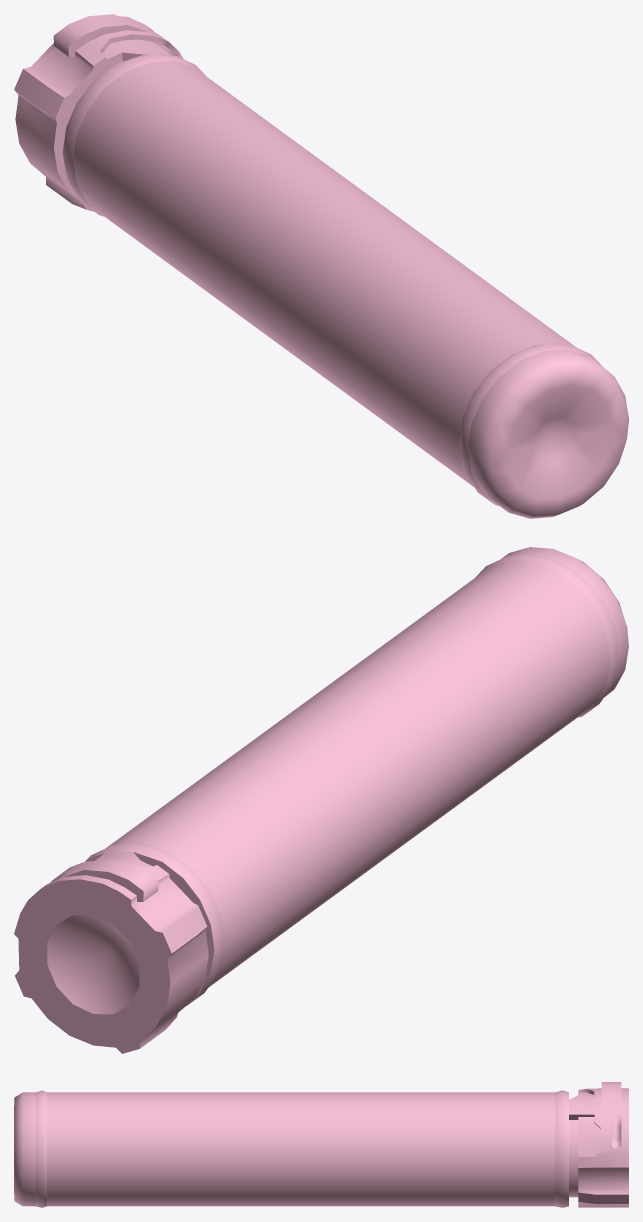
The model's file is surfire.fbx.
3 renders of one model, top to bottom at view 1: azimuth 30°, elevation 25°; view 2: azimuth 150°, elevation 25°; view 3: azimuth 270°, elevation 25°, orthographic. The views are drawn at different scales.
Visible parts, largest first — view 1: surefire; view 2: surefire; view 3: surefire.
Part boxes in pixels (x1,y1,x2,y2): surefire: (14,14,628,518); surefire: (14,547,628,1053); surefire: (14,1082,628,1207).
Size of the model in its own units: 1.87 by 1.96 by 9.57.
